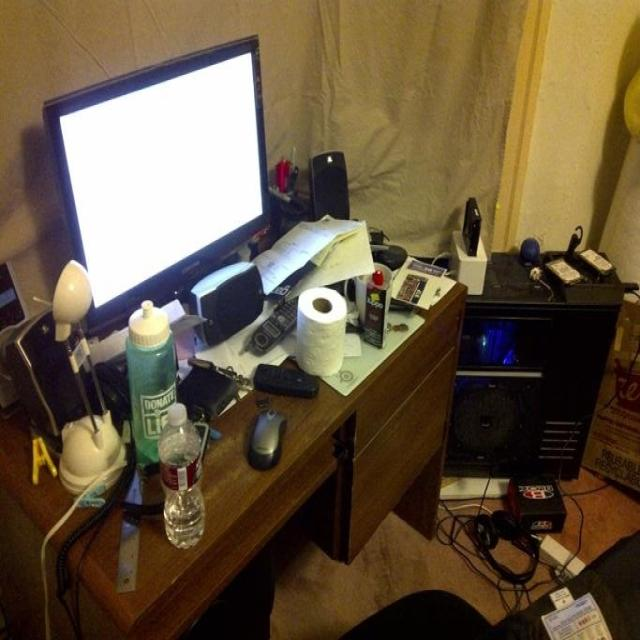Cable: (408, 489, 596, 628)
E-waste: (37, 35, 279, 302), (450, 186, 600, 494), (43, 250, 125, 512), (222, 355, 330, 477)
Plastics: (118, 299, 212, 550)
